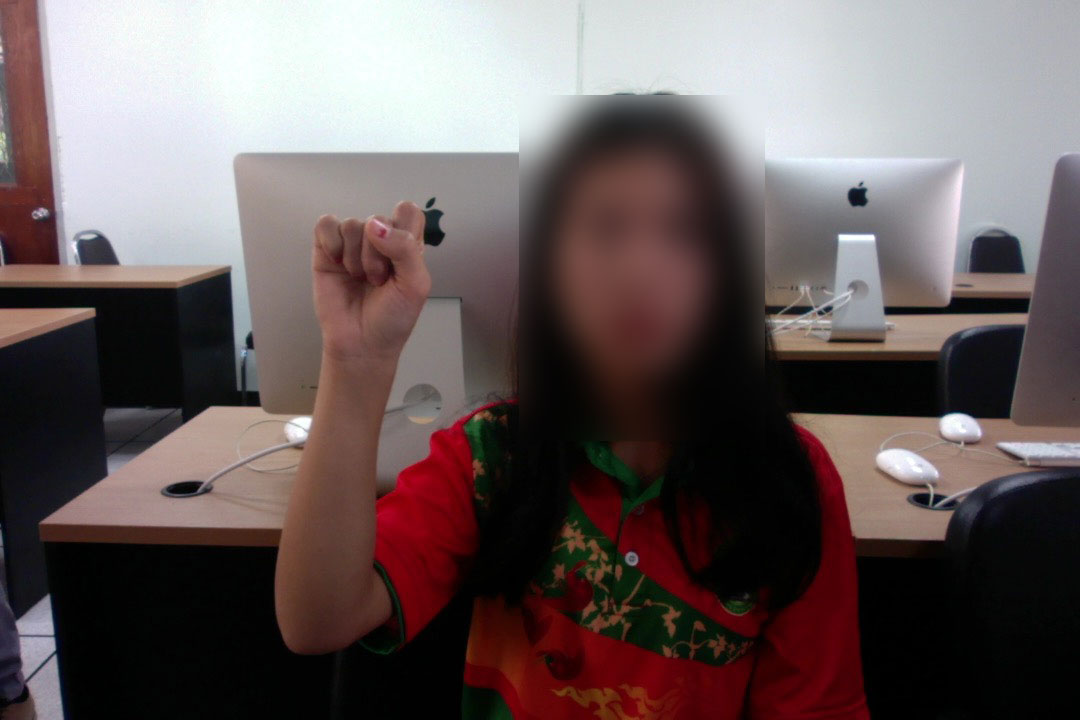sor: (300, 194, 437, 381)
